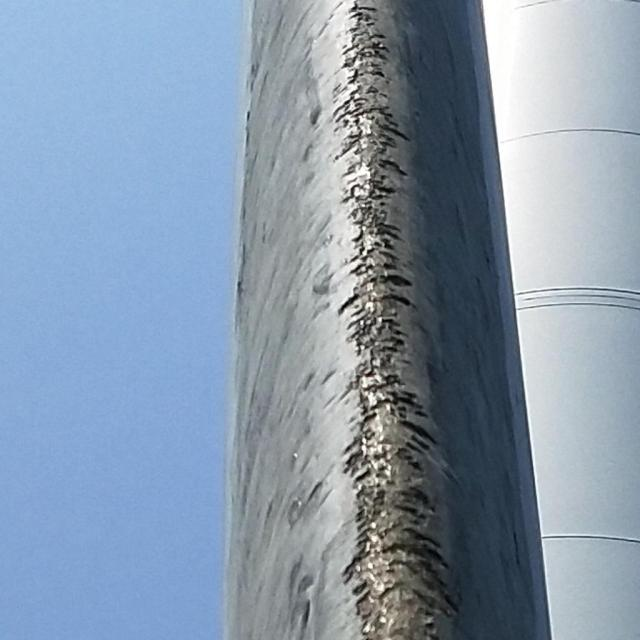corrosion: (276, 3, 453, 640)
